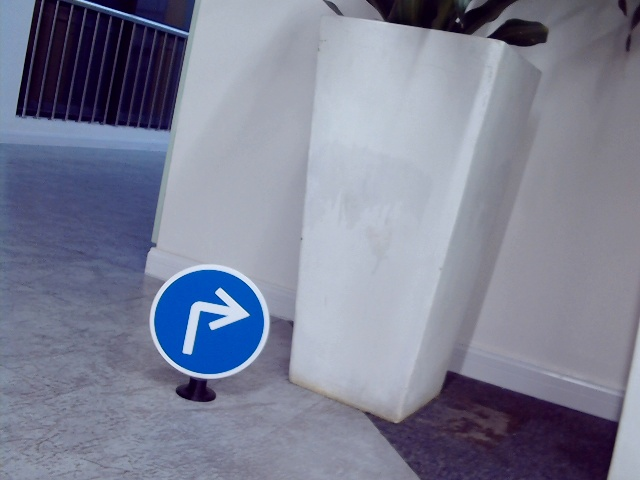turn_right: (179, 285, 246, 354)
